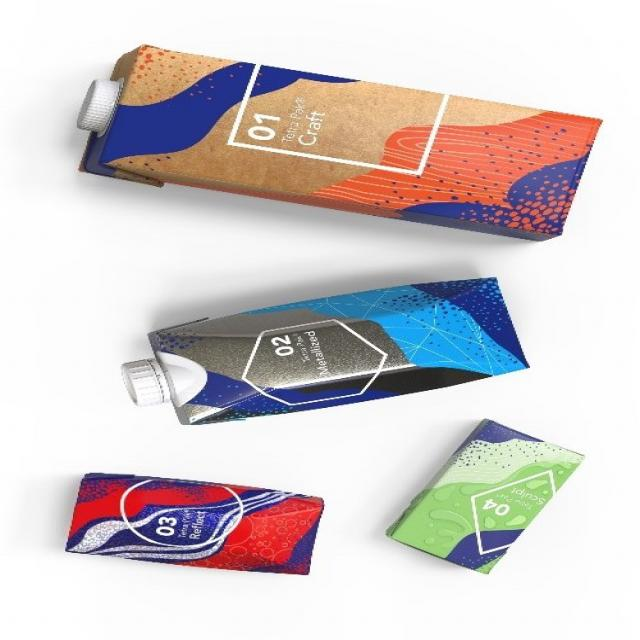non_white_jug: (74, 40, 607, 242), (121, 274, 530, 432), (377, 418, 589, 576), (67, 470, 323, 575)
